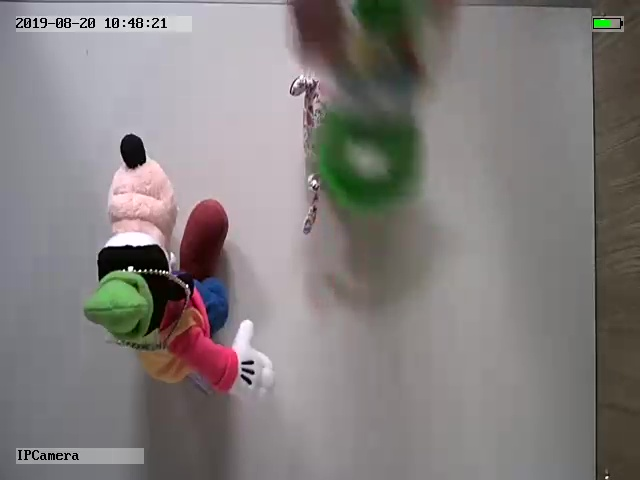goofy: (81, 130, 275, 405)
